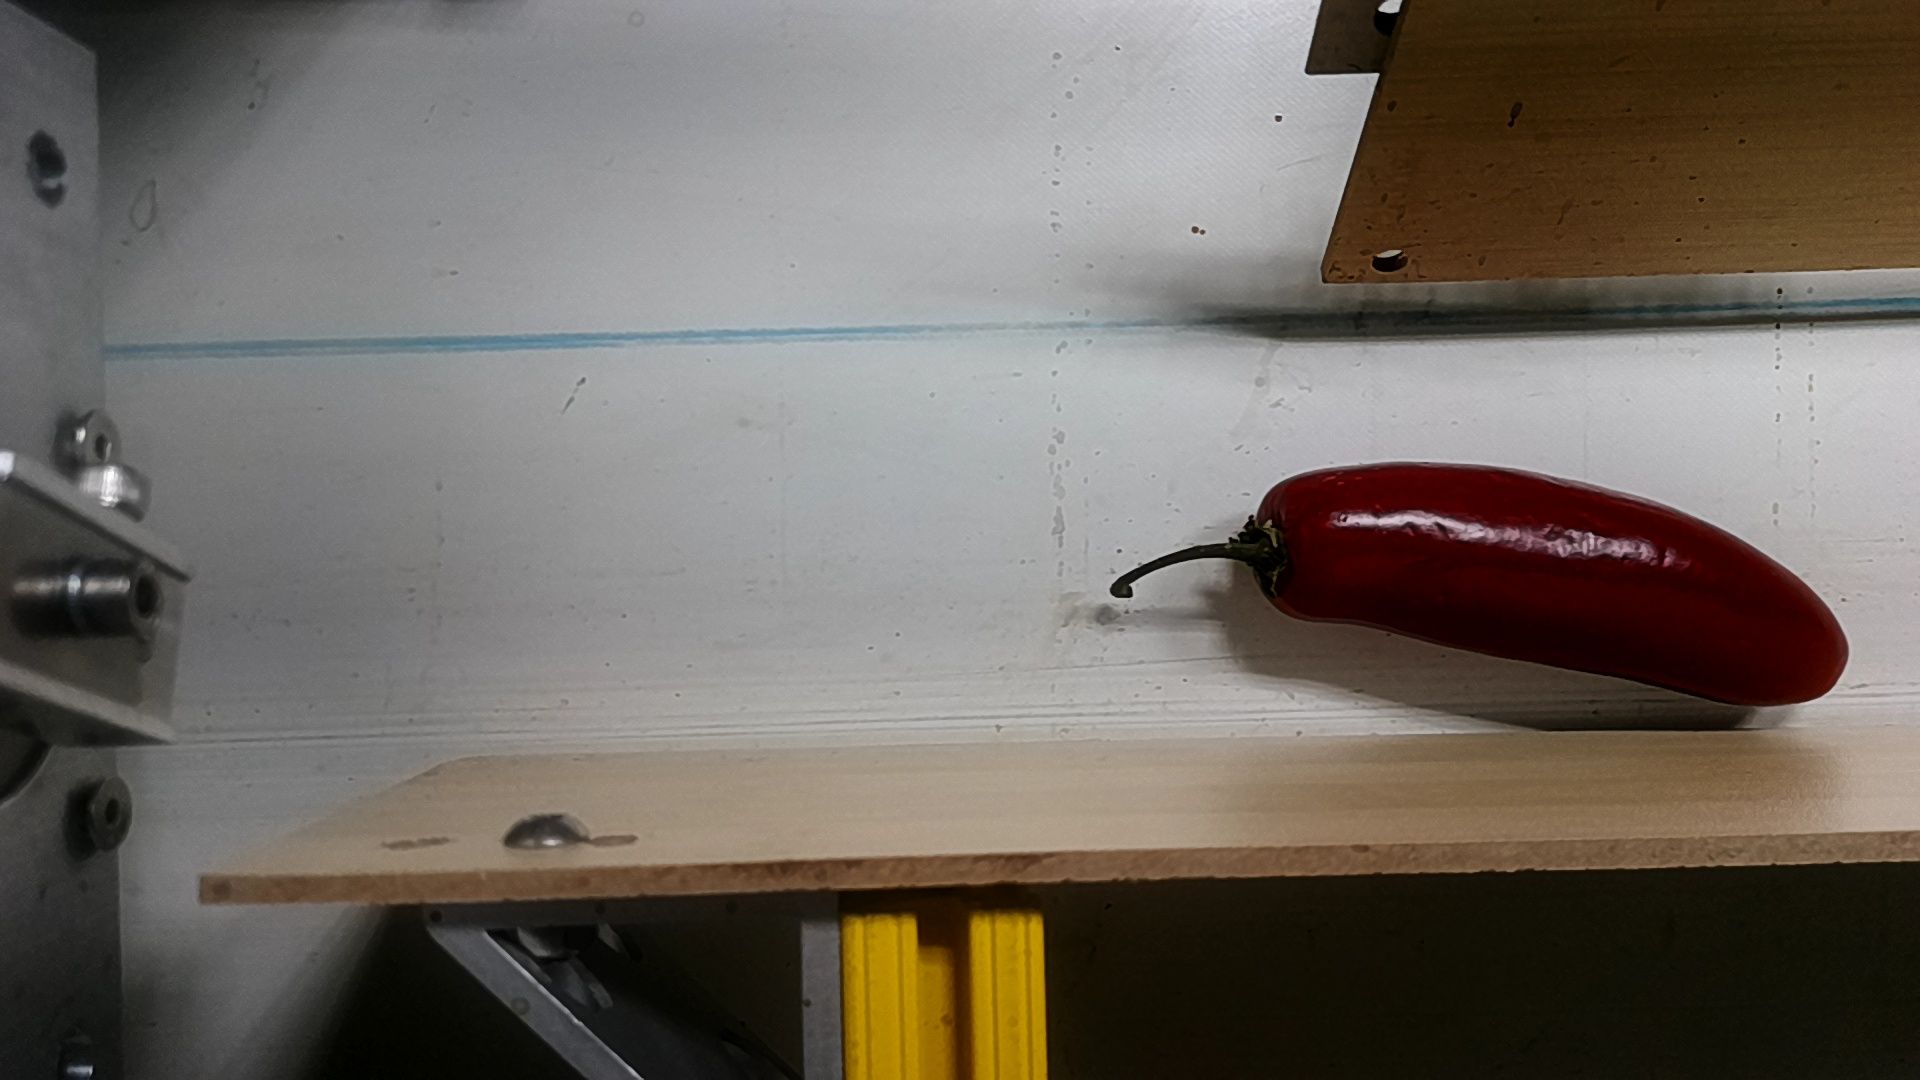Cut Point: (1224, 469, 1335, 626)
